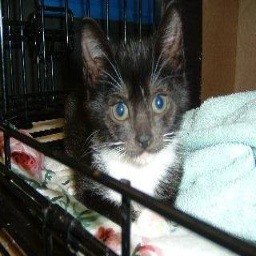cat: (56, 21, 195, 218)
